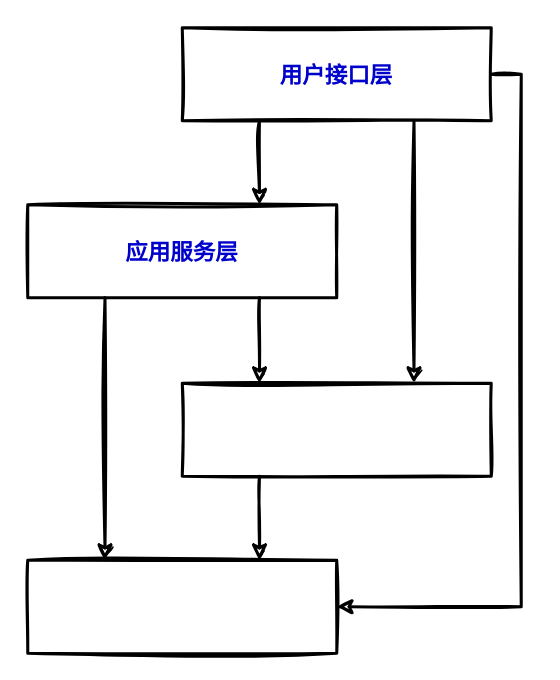
The diagram is 560 pixels wide and 680 high, and some of its shapes have lost their labels. The shapes that lost their labels are listed below. From the top down, each one's box as (x1, y1, x2, y2) in pixels, then its label:
(180, 381, 492, 477): 领域服务层
(26, 558, 338, 654): 基础设施层
